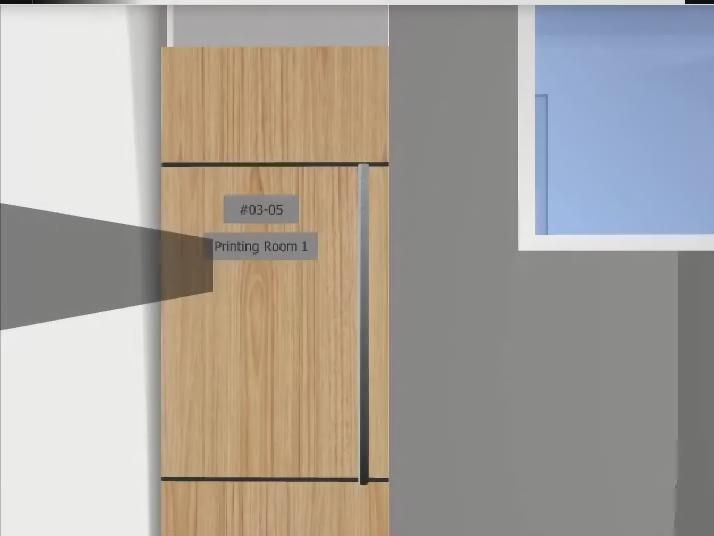door: (161, 47, 389, 536)
